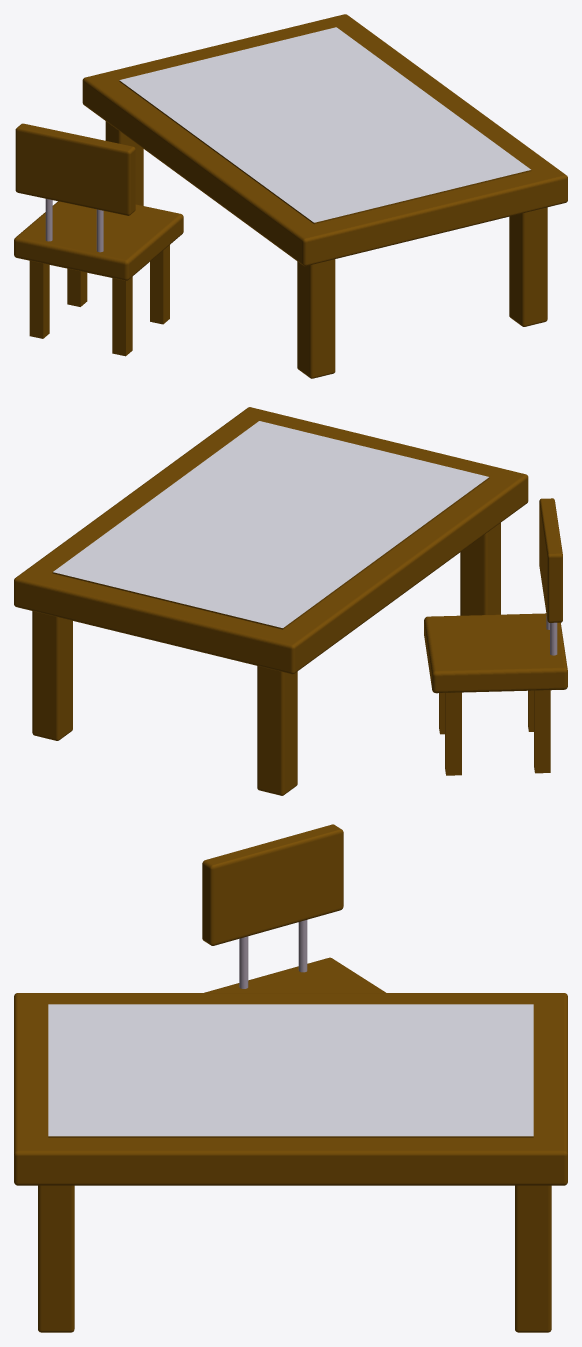
3 views of the same model, one above another, from view 1: azimuth 30°, elevation 25°; view 2: azimuth 150°, elevation 25°; view 3: azimuth 270°, elevation 25° (orthographic). The views are drawn at different scales.
Visible parts, largest first — view 1: Cube, Cube.005, Cube.006, Cube.004, Cube.002, Cube.010, Cube.009, Cube.008, Cube.001, Cube.007; view 2: Cube, Cube.005, Cube.001, Cube.003, Cube.004, Cube.006, Cube.007, Cube.009; view 3: Cube, Cube.006, Cube.003, Cube.002, Cube.005.
Boxes of the visible parts, x1,y1,x2,y2 form: Cube: [82, 14, 567, 266]; Cube.005: [14, 201, 183, 280]; Cube.006: [15, 123, 135, 215]; Cube.004: [297, 259, 335, 378]; Cube.002: [509, 207, 547, 326]; Cube.010: [112, 277, 132, 356]; Cube.009: [29, 261, 49, 338]; Cube.008: [150, 245, 169, 324]; Cube.001: [105, 121, 143, 205]; Cube.007: [67, 268, 87, 306]; Cube: [14, 407, 528, 674]; Cube.005: [424, 613, 567, 693]; Cube.001: [257, 666, 297, 795]; Cube.003: [32, 611, 72, 740]; Cube.004: [460, 523, 500, 615]; Cube.006: [539, 498, 562, 622]; Cube.007: [445, 692, 461, 775]; Cube.009: [534, 690, 550, 773]; Cube: [14, 993, 567, 1185]; Cube.006: [202, 824, 343, 945]; Cube.003: [515, 1185, 551, 1332]; Cube.002: [38, 1185, 74, 1332]; Cube.005: [204, 957, 385, 992].
Size of what is drawn, in the model's own units: 1.8 by 0.847 by 1.62.
